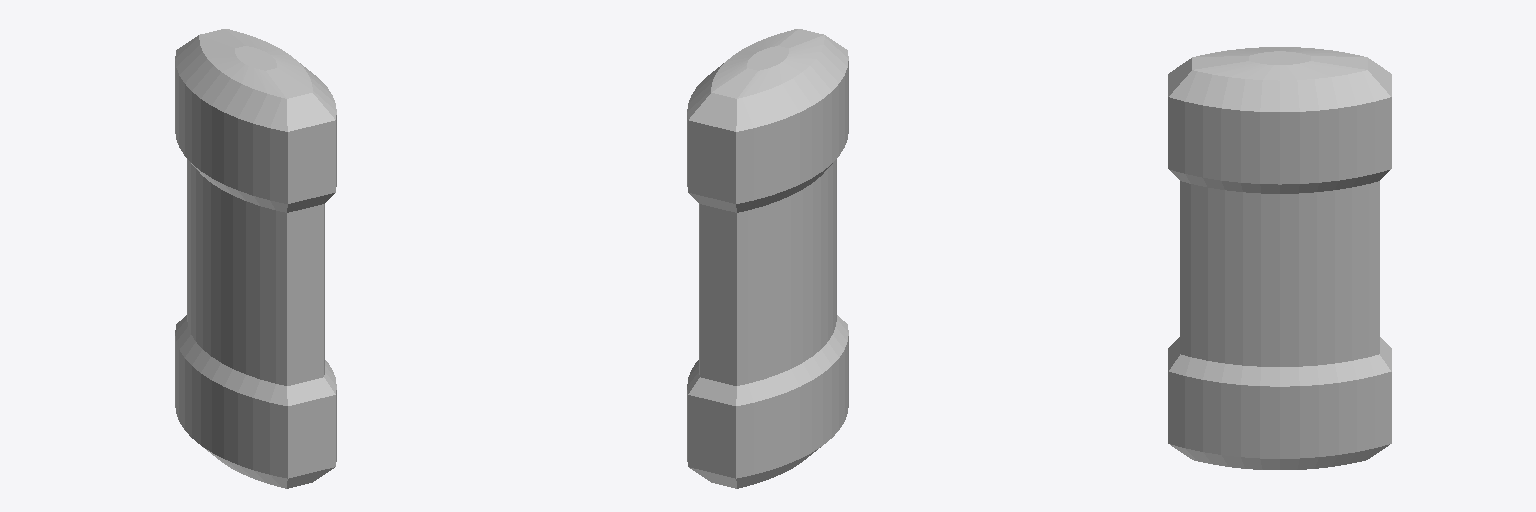
Rendered from original-3.obj.
3 views of the same model, side by side, from view 1: azimuth 30°, elevation 25°; view 2: azimuth 150°, elevation 25°; view 3: azimuth 270°, elevation 25° (orthographic).
Parts seen in each view (by area): view 1: mesh3/mesh3-geometry#mesh3-geometry; view 2: mesh3/mesh3-geometry#mesh3-geometry; view 3: mesh3/mesh3-geometry#mesh3-geometry.
Boxes of the visible parts, box(x1,y1,x2,y2) form: mesh3/mesh3-geometry#mesh3-geometry: box(175, 29, 336, 488); mesh3/mesh3-geometry#mesh3-geometry: box(687, 29, 848, 488); mesh3/mesh3-geometry#mesh3-geometry: box(1168, 47, 1391, 469).
Size of the model in its own units: 0.4303 by 1.47 by 0.7531.